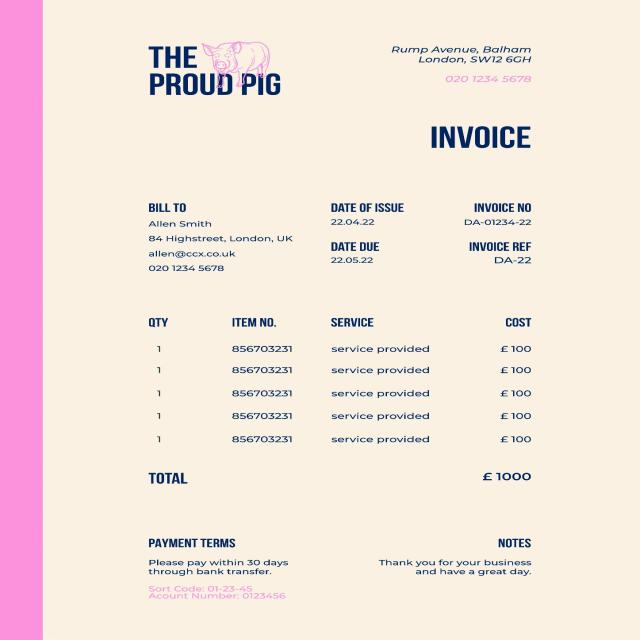paragraph: (137, 184, 298, 283), (126, 464, 550, 496), (143, 528, 301, 611), (367, 525, 545, 589), (126, 41, 308, 101), (384, 33, 544, 92), (316, 192, 418, 271), (462, 191, 550, 270), (426, 115, 544, 155)
table: (123, 309, 554, 454)
